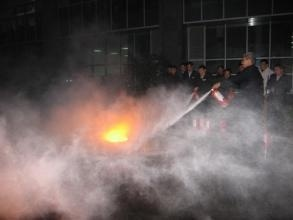fire: (96, 117, 134, 144)
